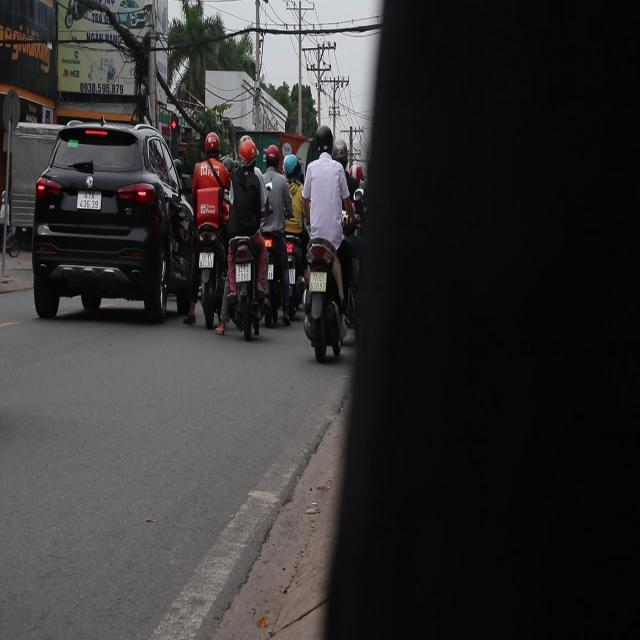car: (31, 117, 203, 323)
motorbike: (301, 238, 350, 364), (221, 230, 271, 341), (262, 230, 308, 327)
